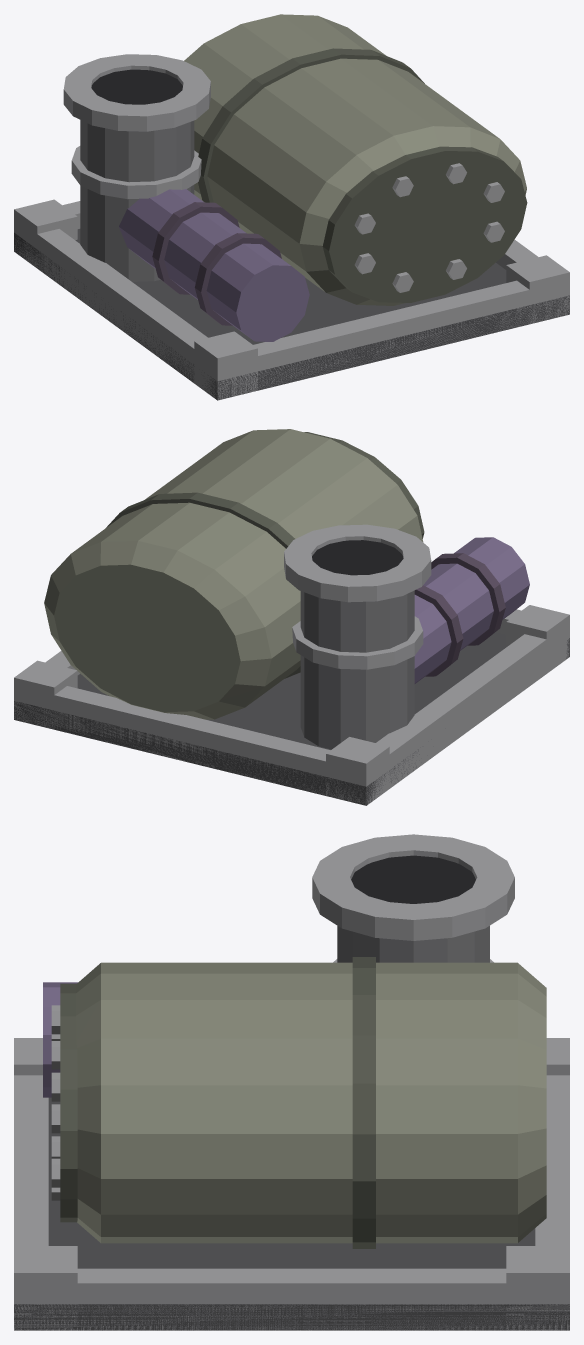
File: vge_astrofuel_generator.obj
The picture shows the model from 3 angles, top to bottom: view 1: azimuth 30°, elevation 25°; view 2: azimuth 150°, elevation 25°; view 3: azimuth 270°, elevation 25°; orthographic projection. The views are drawn at different scales.
Visible parts, largest first — view 1: vge_astrofuel_generator_9, vge_astrofuel_generator_11, vge_astrofuel_generator_0, vge_astrofuel_generator_20, vge_astrofuel_generator_1, vge_astrofuel_generator_23, vge_astrofuel_generator_3, vge_astrofuel_generator_25, vge_astrofuel_generator_10, vge_astrofuel_generator_5, vge_astrofuel_generator_26, vge_astrofuel_generator_24 (+6 smaller); view 2: vge_astrofuel_generator_9, vge_astrofuel_generator_23, vge_astrofuel_generator_2, vge_astrofuel_generator_0, vge_astrofuel_generator_3, vge_astrofuel_generator_20, vge_astrofuel_generator_25, vge_astrofuel_generator_24, vge_astrofuel_generator_26, vge_astrofuel_generator_10, vge_astrofuel_generator_6, vge_astrofuel_generator_8 (+5 smaller); view 3: vge_astrofuel_generator_9, vge_astrofuel_generator_0, vge_astrofuel_generator_4, vge_astrofuel_generator_25, vge_astrofuel_generator_1, vge_astrofuel_generator_10, vge_astrofuel_generator_2, vge_astrofuel_generator_26, vge_astrofuel_generator_11, vge_astrofuel_generator_23, vge_astrofuel_generator_7, vge_astrofuel_generator_8 (+3 smaller).
Boxes of the visible parts, x1,y1,x2,y2 form: vge_astrofuel_generator_9: (184,14,526,305); vge_astrofuel_generator_11: (322,146,527,302); vge_astrofuel_generator_0: (14,229,569,400); vge_astrofuel_generator_20: (119,189,309,341); vge_astrofuel_generator_1: (204,280,569,399); vge_astrofuel_generator_23: (80,120,194,281); vge_astrofuel_generator_3: (26,226,207,389); vge_astrofuel_generator_25: (63,54,210,131); vge_astrofuel_generator_10: (198,48,424,202); vge_astrofuel_generator_5: (194,331,257,399); vge_astrofuel_generator_26: (91,69,182,104); vge_astrofuel_generator_24: (71,146,201,199); vge_astrofuel_generator_9: (44,429,423,719); vge_astrofuel_generator_23: (300,590,414,749); vge_astrofuel_generator_2: (14,685,379,804); vge_astrofuel_generator_0: (14,632,569,805); vge_astrofuel_generator_3: (376,632,557,796); vge_astrofuel_generator_20: (414,537,529,683); vge_astrofuel_generator_25: (284,524,431,602); vge_astrofuel_generator_24: (292,616,423,669); vge_astrofuel_generator_26: (312,540,403,575); vge_astrofuel_generator_10: (106,492,300,678); vge_astrofuel_generator_6: (326,737,389,805); vge_astrofuel_generator_8: (14,660,77,728); vge_astrofuel_generator_9: (76,962,546,1243); vge_astrofuel_generator_0: (14,1097,569,1330); vge_astrofuel_generator_4: (48,1268,535,1330); vge_astrofuel_generator_25: (312,834,514,940); vge_astrofuel_generator_1: (14,1075,48,1330); vge_astrofuel_generator_10: (352,957,375,1248); vge_astrofuel_generator_2: (535,1075,569,1330); vge_astrofuel_generator_26: (351,855,475,903); vge_astrofuel_generator_11: (60,983,77,1222); vge_astrofuel_generator_23: (337,926,489,962); vge_astrofuel_generator_7: (14,1246,77,1330); vge_astrofuel_generator_8: (506,1246,569,1330).
Bounding box in the file's own units: 1.92 × 1.01 × 1.92.
